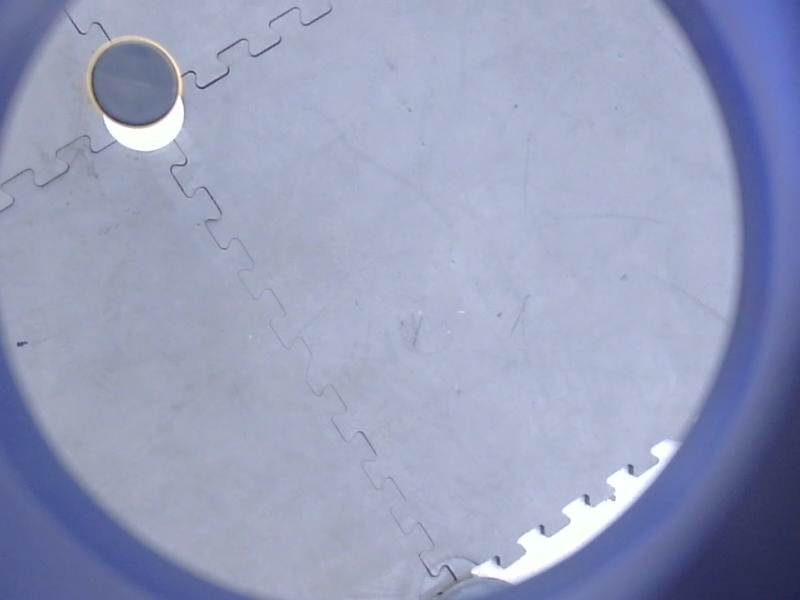tip: (80, 31, 191, 135)
